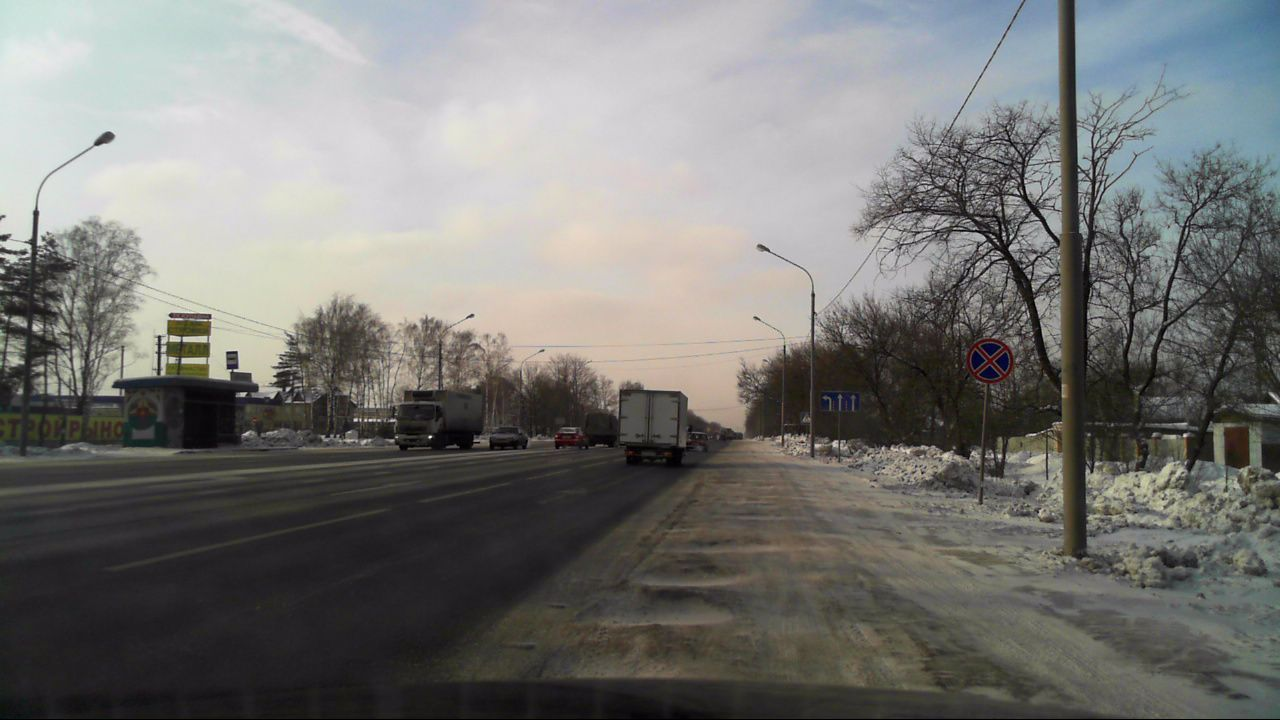No Parking: (967, 337, 1013, 383)
